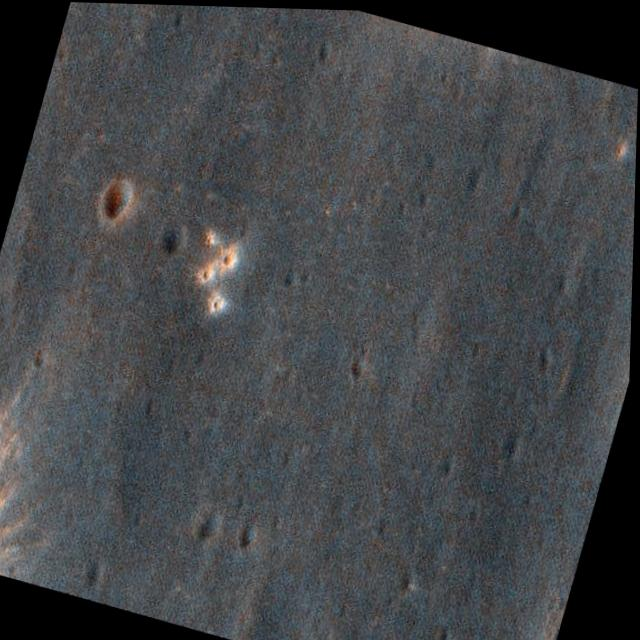Crater: (336, 8, 569, 97), (592, 257, 634, 481)
